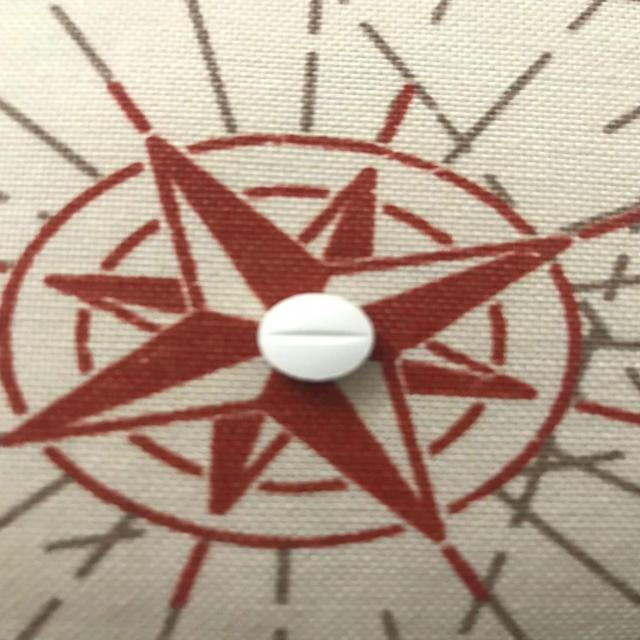pill: (254, 290, 386, 382)
